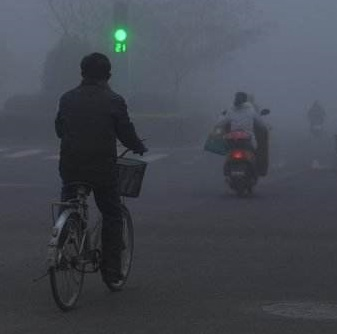person: (40, 51, 150, 314), (202, 89, 272, 197), (307, 100, 324, 138)
